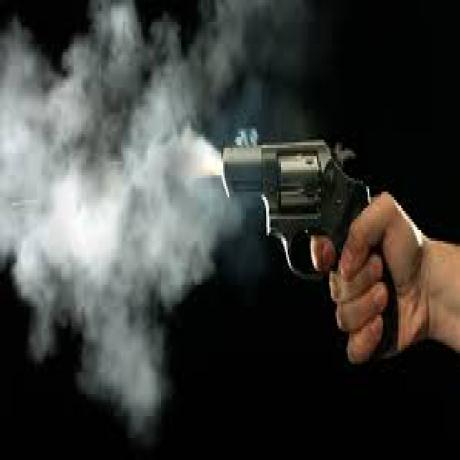Guns: (221, 131, 403, 355)
